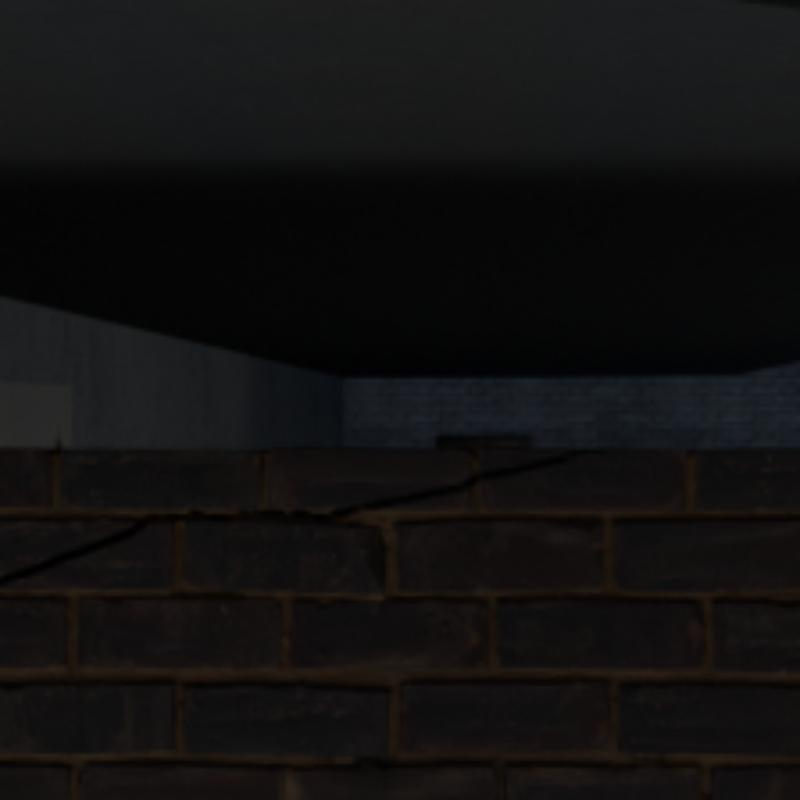pothole: (0, 511, 232, 582), (329, 450, 579, 514), (232, 507, 329, 514)
